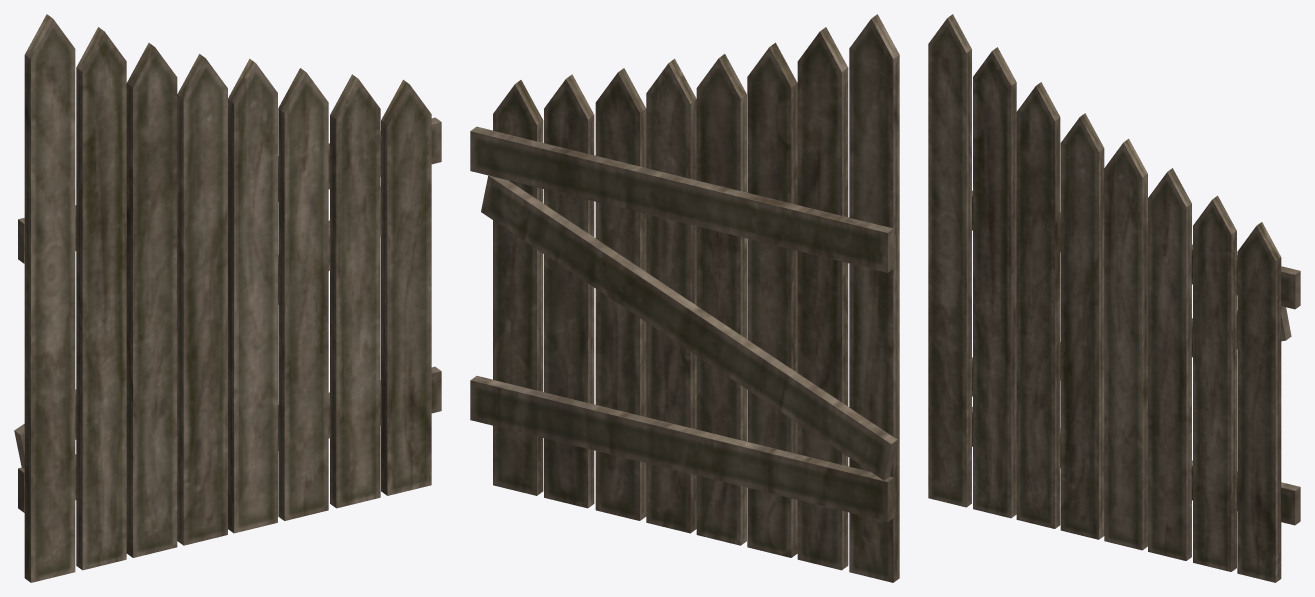
The model's file is gateL.glb.
The picture shows the model from 3 angles, left to right: view 1: azimuth 30°, elevation 25°; view 2: azimuth 150°, elevation 25°; view 3: azimuth 330°, elevation 25°; orthographic projection. The views are drawn at different scales.
Parts seen in each view (by area): view 1: plank35_style1_door1_0.002; view 2: plank35_style1_door1_0.002; view 3: plank35_style1_door1_0.002.
Part boxes in pixels (x1=…): plank35_style1_door1_0.002: x1=14, y1=14, x2=441, y2=582; plank35_style1_door1_0.002: x1=470, y1=14, x2=899, y2=582; plank35_style1_door1_0.002: x1=928, y1=14, x2=1300, y2=582.
Bounding box in the file's own units: 1.23 × 1.56 × 0.0635.
1 material, 1 textured.
